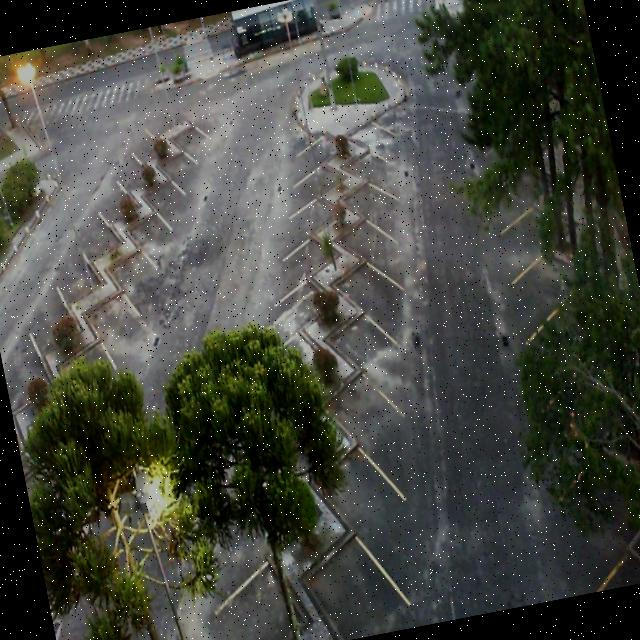empty: (297, 491, 402, 638), (313, 423, 417, 558), (194, 527, 315, 640), (318, 348, 409, 468), (326, 288, 408, 388), (322, 236, 400, 322), (14, 250, 82, 344), (254, 256, 332, 333), (78, 265, 142, 353), (42, 214, 106, 300), (332, 189, 404, 265), (0, 304, 54, 403), (272, 205, 340, 270), (102, 222, 158, 300), (117, 182, 174, 256), (267, 172, 337, 232), (336, 152, 400, 216), (70, 187, 126, 258), (342, 121, 402, 180), (286, 138, 348, 192), (140, 154, 192, 216), (150, 118, 202, 180), (90, 154, 140, 218), (348, 97, 406, 152), (122, 99, 171, 161), (284, 108, 343, 158), (108, 128, 156, 188), (166, 97, 210, 156)
